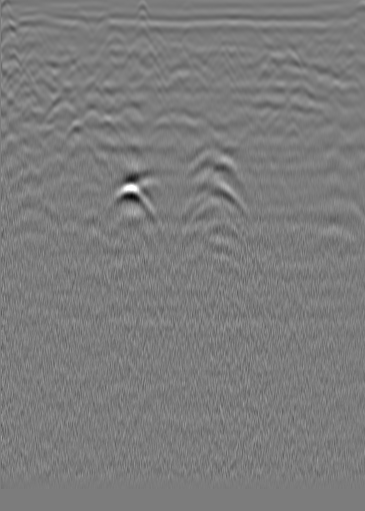가스: (102, 180, 159, 226)
상수: (311, 32, 331, 52)
오수: (34, 30, 54, 50)
우수: (195, 27, 215, 47)
